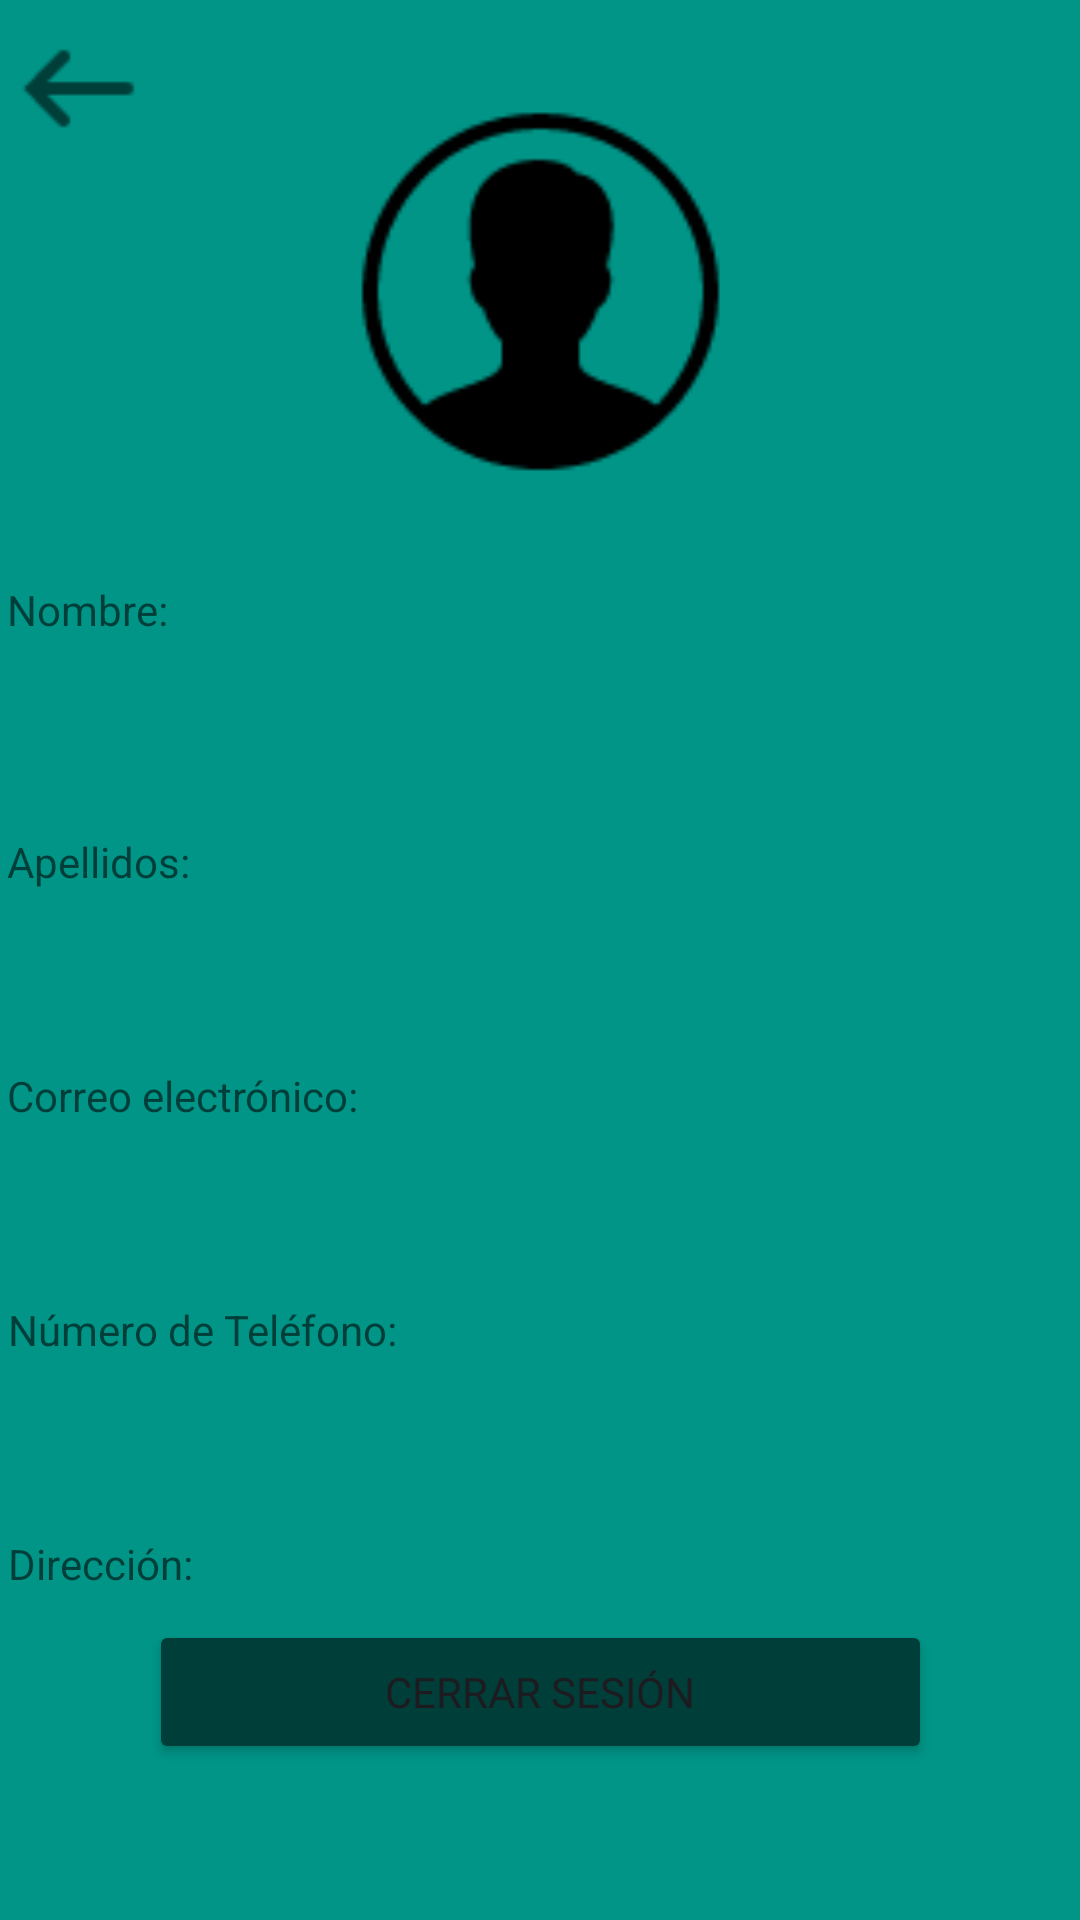

Icons on this 1080×1920 Android screen, each with the point to tap as [x,y]:
back: [79,88]
male user: [540,291]
